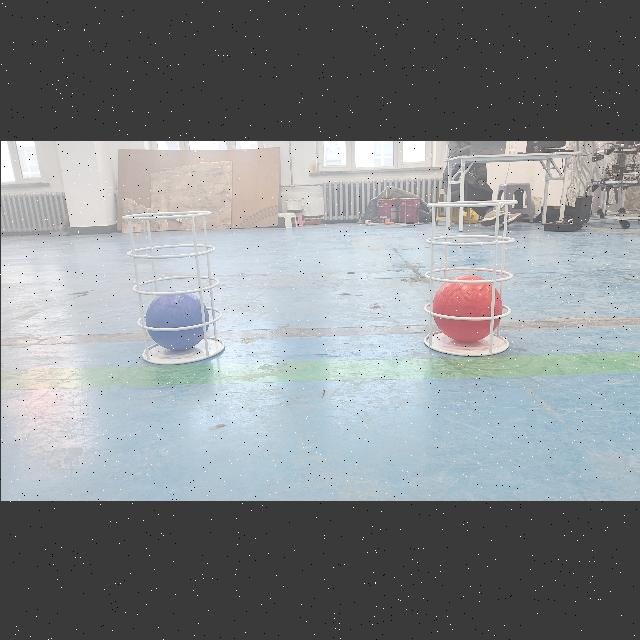B: (144, 288, 208, 352)
R: (431, 273, 502, 341)
S: (117, 205, 226, 369), (418, 193, 520, 359)
